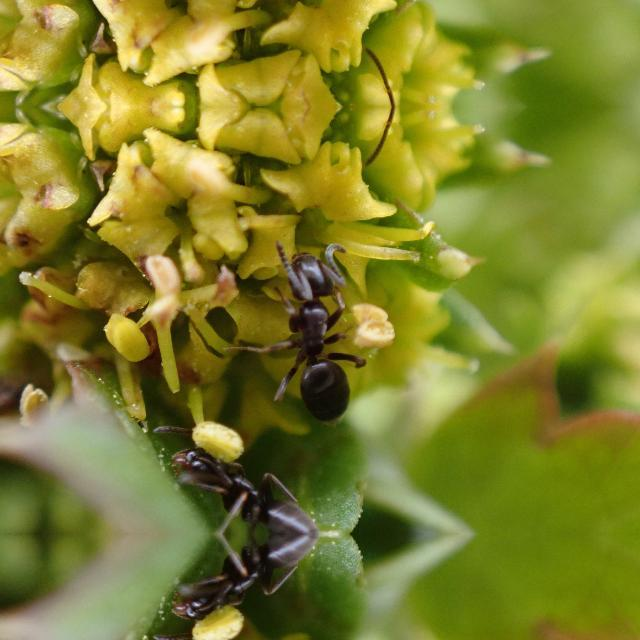Tapinoma: (244, 232, 384, 428), (146, 534, 350, 640), (146, 428, 350, 532)
